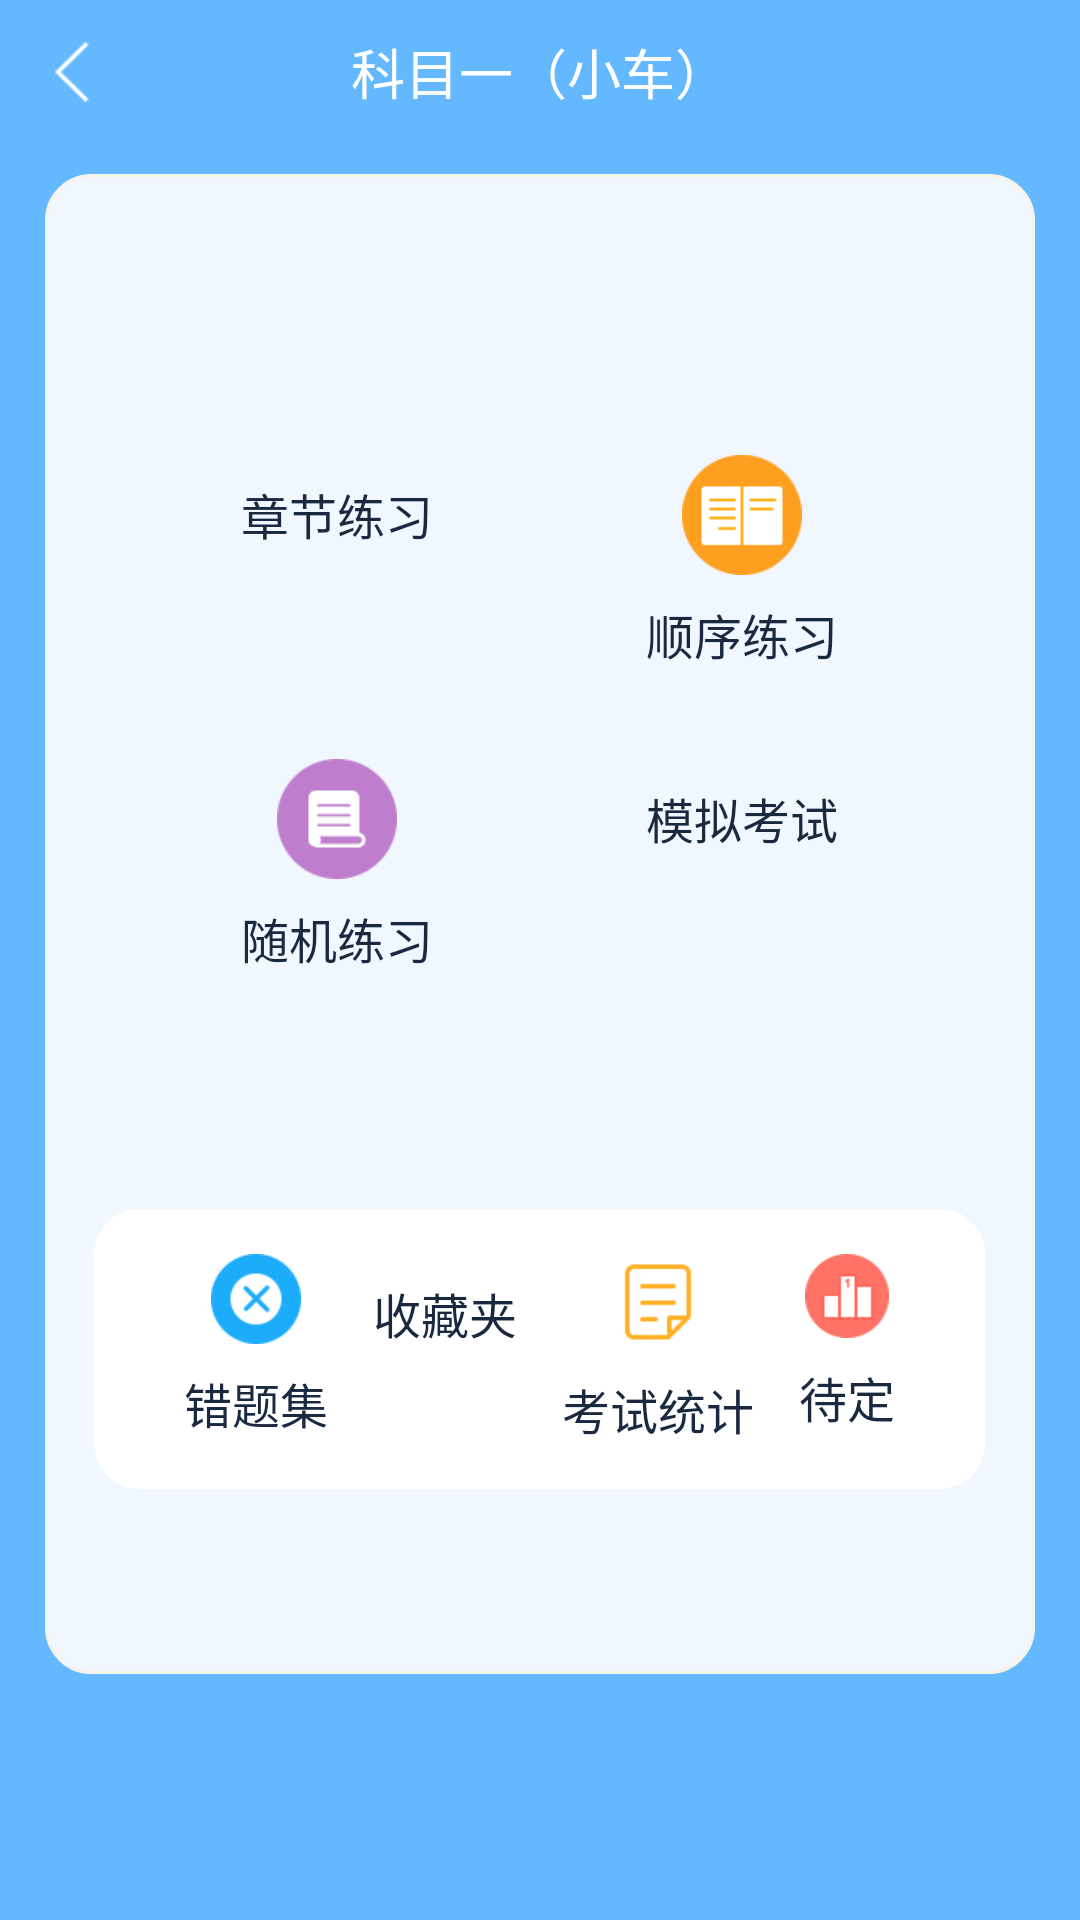

Where icons sit on this 1080*1920 app screen, as [x1=x1, y1=y1, x2=x2, y2=y2]:
back: [x1=55, y1=42, x2=89, y2=102]
type my record: [x1=624, y1=1264, x2=692, y2=1340]
type ranking: [x1=805, y1=1254, x2=889, y2=1338]
